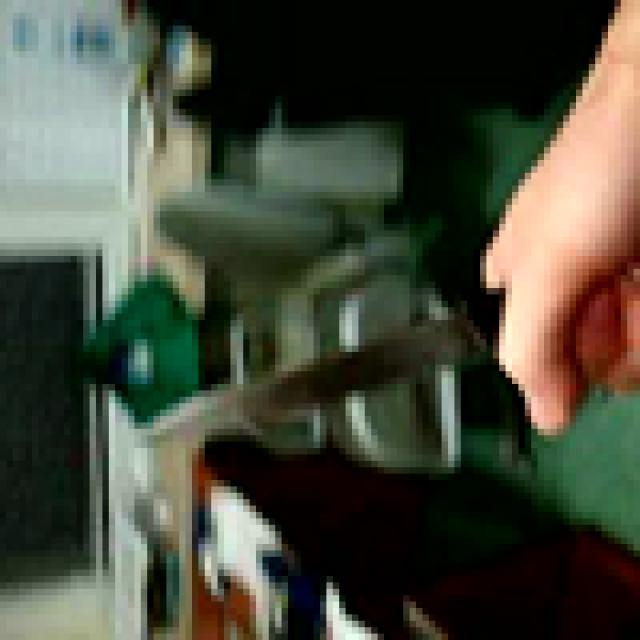Knife: (141, 262, 627, 473)
